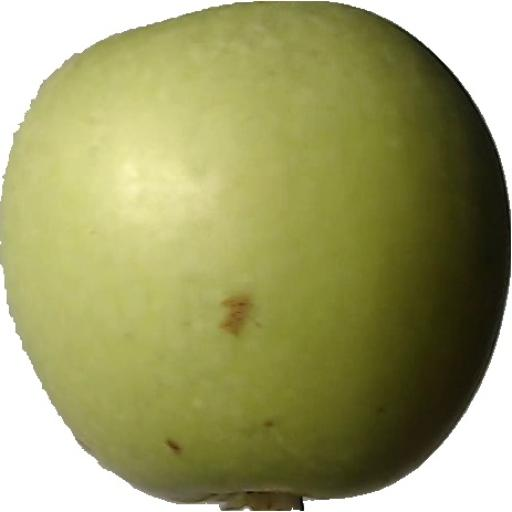apple-unripe: (8, 0, 512, 512)
